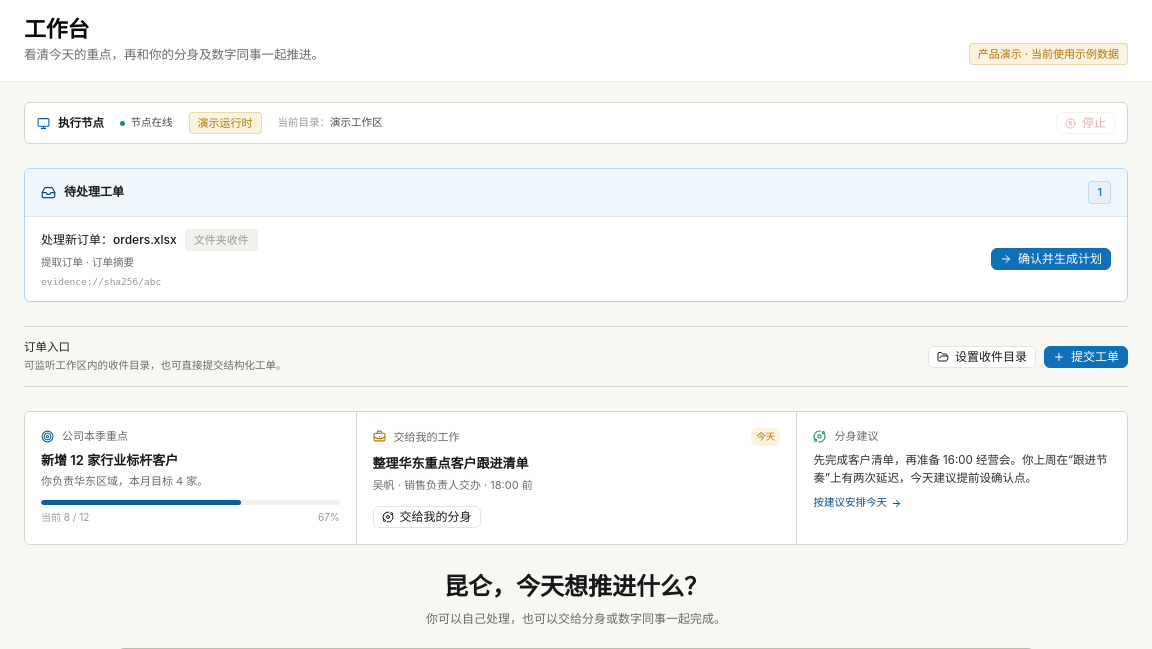
WorkbenchPage V5 › shows real pending intake only when present and confirms it into the existing plan flow
Expected: the text "待处理工单" is shown, x1=64 y1=183 x2=124 y2=201
Expected: the text "处理新订单：orders.xlsx" is shown, x1=41 y1=231 x2=177 y2=249
Click the button with aria-label "确认工单：处理新订单：orders.xlsx" at {"x": 1051, "y": 259}, box x1=991 y1=248 x2=1111 y2=270
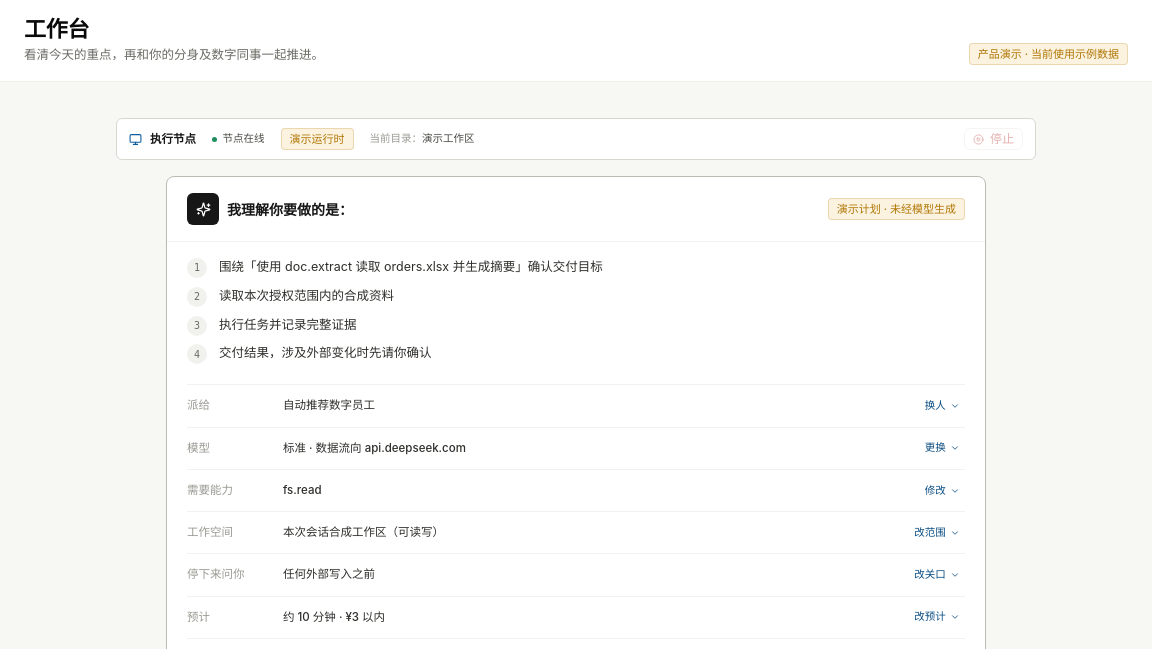
Expected: the heading "我理解你要做的是：" is shown, x1=227 y1=199 x2=353 y2=220
